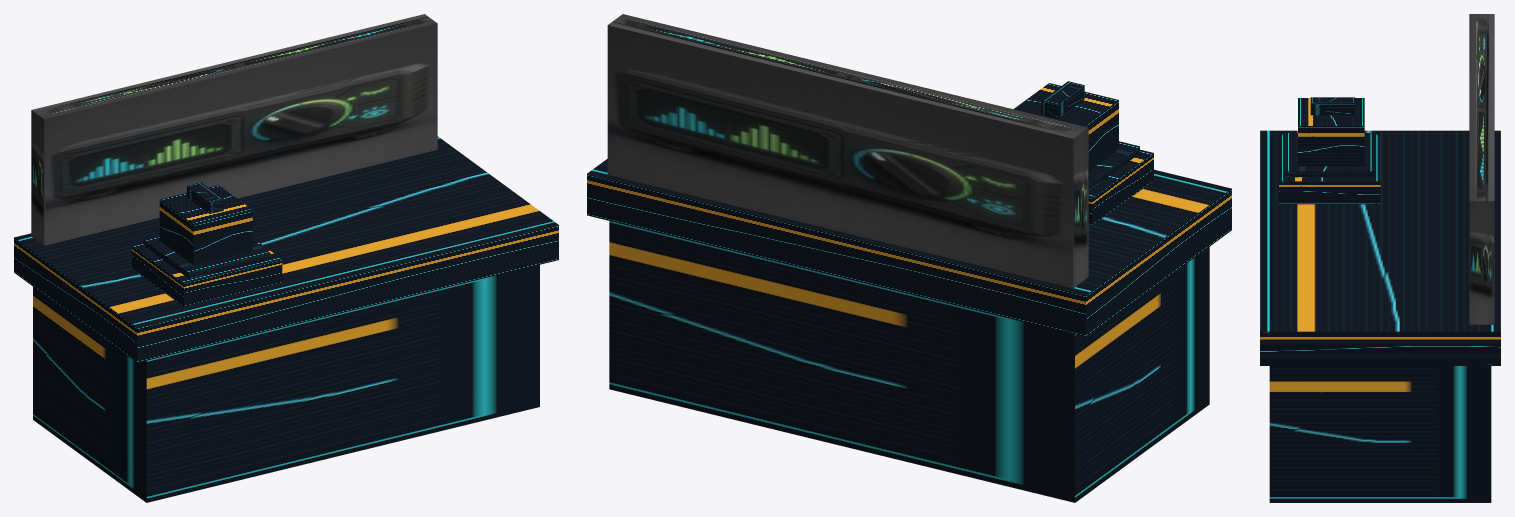
The model's file is Console_ScenarioSwitch.obj.
The picture shows the model from 3 angles, left to right: view 1: azimuth 30°, elevation 25°; view 2: azimuth 150°, elevation 25°; view 3: azimuth 270°, elevation 25°; orthographic projection. The views are drawn at different scales.
Visible parts, largest first — view 1: Console_ScenarioSwitch; view 2: Console_ScenarioSwitch; view 3: Console_ScenarioSwitch.
Part boxes in pixels (x1,y1,x2,y2): Console_ScenarioSwitch: (14, 14, 558, 502); Console_ScenarioSwitch: (587, 14, 1231, 502); Console_ScenarioSwitch: (1260, 14, 1500, 502).
Bounding box in the file's own units: 1.5 × 1.05 × 0.76.
Materials: 1 (1 with a texture image).
